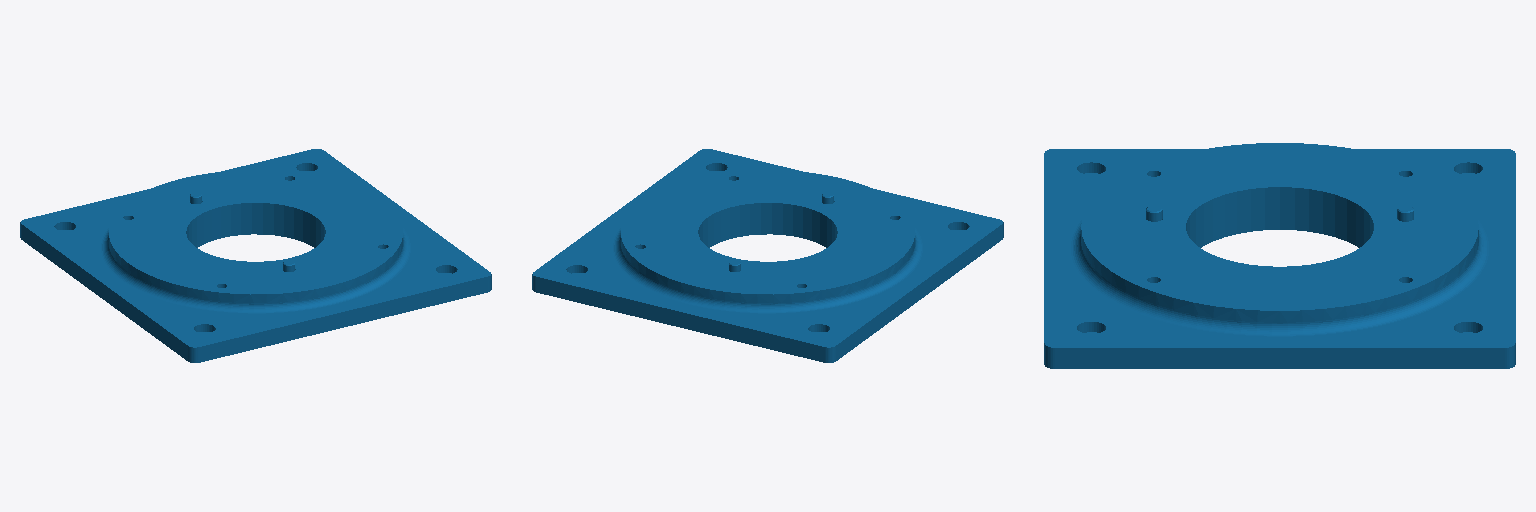
robot.urdf — testbed:
<robot name="testbed">
  
  
  
  
  
  
  
  
  
  
  
  <link name="world"><inertial><mass value="0.0" /><origin rpy="0 0 0" xyz="0 0 0" /><inertia ixx="0.0" ixy="0.0" ixz="0.0" iyy="0.0" iyz="0.0" izz="0.0" /></inertial></link>
  <joint name="world_to_table" type="fixed">
    <parent link="world" />
    <child link="table" />
    <origin rpy="0 0 3.14159" xyz="0 0 0" />
  </joint>
  <link name="table">
    <inertial>
      <mass value="100.0" />
      <origin rpy="0 0 0" xyz="0 0 0" />
      <inertia ixx="17.8180758727668" ixy="0.0" ixz="0.0" iyy="10.983703606516801" iyz="0.0" izz="17.769367892250003" />
    </inertial>
    <visual>
      <origin rpy="0 0 0" xyz="0 0 0" />
      <geometry>
        <mesh filename="package://chargepal_description/meshes/testbed/table.dae" />
      </geometry>
      <material name="vention_green">
        <color rgba="0.047058823529411764 0.5058823529411764 0.5411764705882353 1" />
      </material>
    </visual>
    <collision>
      <origin rpy="0.0 0.0 0.0" xyz="-0.405 -0.6075 -0.4068" />
      <geometry>
        <box size="0.81 1.215 0.8136" />
      </geometry>
    </collision>
  </link>
  <joint name="table_to_baseplate" type="fixed">
    <parent link="table" />
    <child link="base_plate" />
    <origin rpy="0 0 3.14159" xyz="-0.1575 -0.1575 0" />
  </joint>
  <link name="base_plate">
    <inertial>
      <mass value="2.0" />
      <origin rpy="0 0 0" xyz="0 0 0" />
      <inertia ixx="0.00852187159125" ixy="0.0" ixz="0.0" iyy="0.00852187159125" iyz="0.0" izz="0.01687499325" />
    </inertial>
    <visual>
      <origin rpy="0 0 0" xyz="0 0 0" />
      <geometry>
        <mesh filename="package://chargepal_description/meshes/testbed/base_plate_ur10e.dae" />
      </geometry>
      <material name="vention_blue">
        <color rgba="0.12549019607843137 0.47058823529411764 0.6666666666666666 1" />
      </material>
    </visual>
    <collision>
      <origin rpy="0.0 0.0 0.0" xyz="0.0 0.0 0.01125" />
      <geometry>
        <box size="0.225 0.225 0.0225" />
      </geometry>
    </collision>
  </link>
  <joint name="baseplate_to_arm" type="fixed">
    <parent link="base_plate" />
    <child link="arm_base" />
    <origin rpy="0 0 0" xyz="0 0 0.0225" />
  </joint>
  <link name="arm_base">
    <inertial>
      <mass value="0.0" />
      <origin rpy="0 0 0" xyz="0 0 0" />
      <inertia ixx="0.0" ixy="0.0" ixz="0.0" iyy="0.0" iyz="0.0" izz="0.0" />
    </inertial>
  </link>
  
  <gazebo reference="base_plate">
    <material>Gazebo/Blue</material>
  </gazebo>
  <gazebo reference="table">
    <material>Gazebo/Green</material>
  </gazebo>
</robot>

--- Facts derived from the render (not from the file) ---
Views: 3 orthographic renders of the robot side by side, from view 1: azimuth 30°, elevation 25°; view 2: azimuth 150°, elevation 25°; view 3: azimuth 270°, elevation 25°.
Robot: testbed — 4 links, 3 joints (3 fixed); root link world; default pose: all joints at 0.
Visible links, largest first — view 1: base_plate; view 2: base_plate; view 3: base_plate.
Link boxes in pixels (x1,y1,x2,y2): base_plate: (20, 149, 491, 362); base_plate: (532, 149, 1003, 362); base_plate: (1044, 143, 1515, 368).
Bounding box of the posed robot: 0.225 × 0.225 × 0.0275 m (x, y, z).
Meshes: 2 distinct files referenced, 1 mesh visuals loaded (1 Collada DAE); not drawn: 1 (reference not matched to a file when rendering).